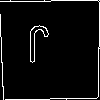J: (25, 25, 51, 72)
